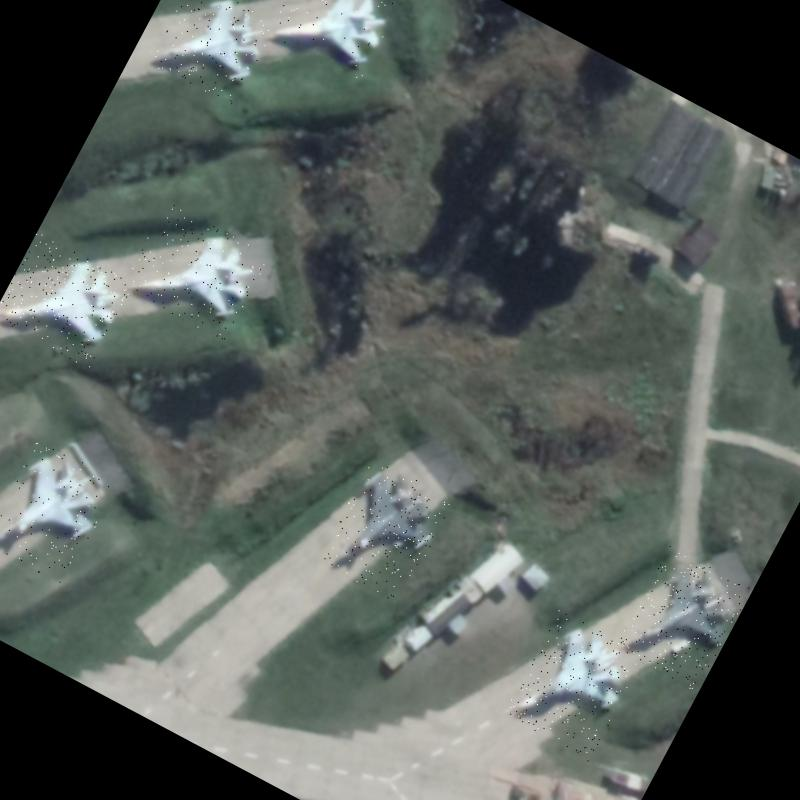A1: (502, 609, 645, 762), (120, 201, 269, 342), (316, 456, 454, 604), (614, 545, 752, 692), (0, 232, 134, 369), (0, 438, 119, 585), (146, 0, 279, 108), (264, 0, 399, 85)
